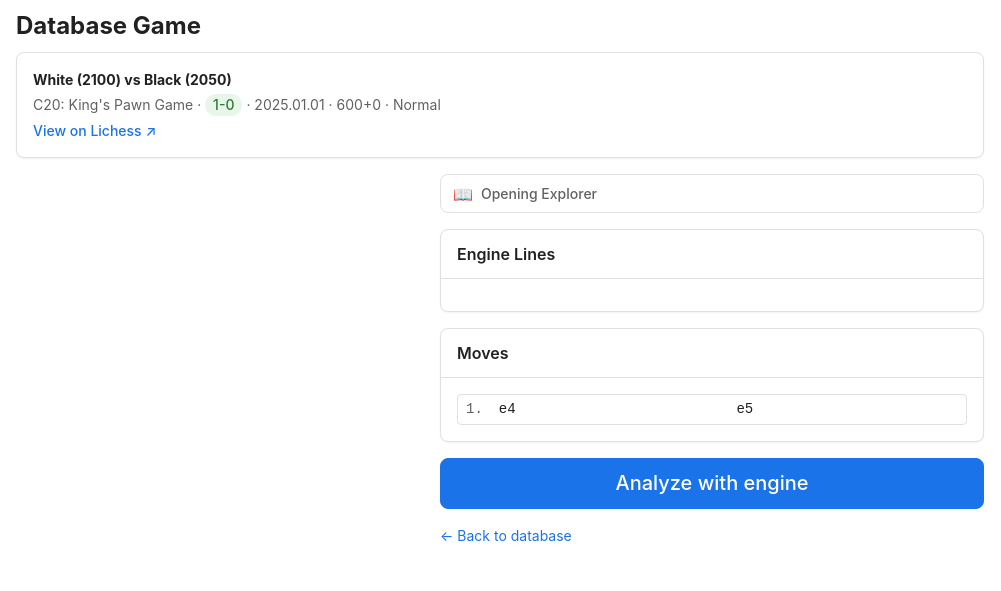
Test: DatabaseGameViewerPage › attaches PGN analysis listeners when analysis starts after the socket is created on demand
Click the button with test id "analyze-pgn-button" at (712, 484), box [440,458,984,509]
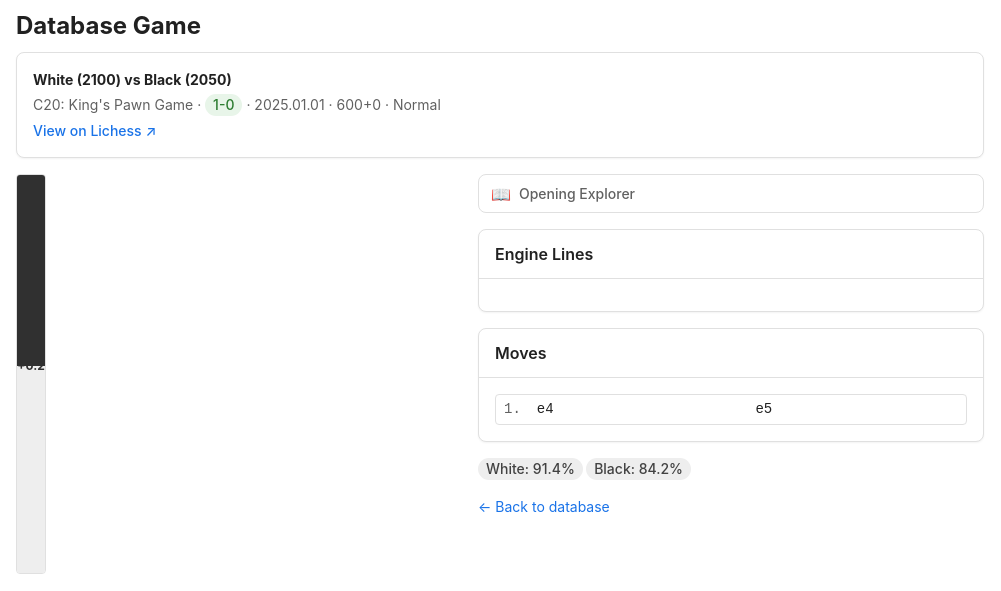
Now the element with test id "pgn-accuracy-display" reads "White: 91.4% Black: 84.2%", box [478,458,691,480]
